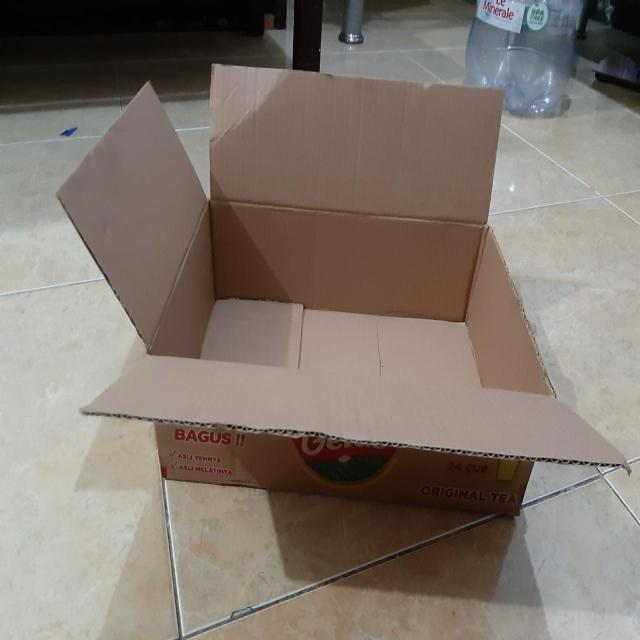Kardus: (56, 62, 630, 520), (462, 0, 583, 117)
